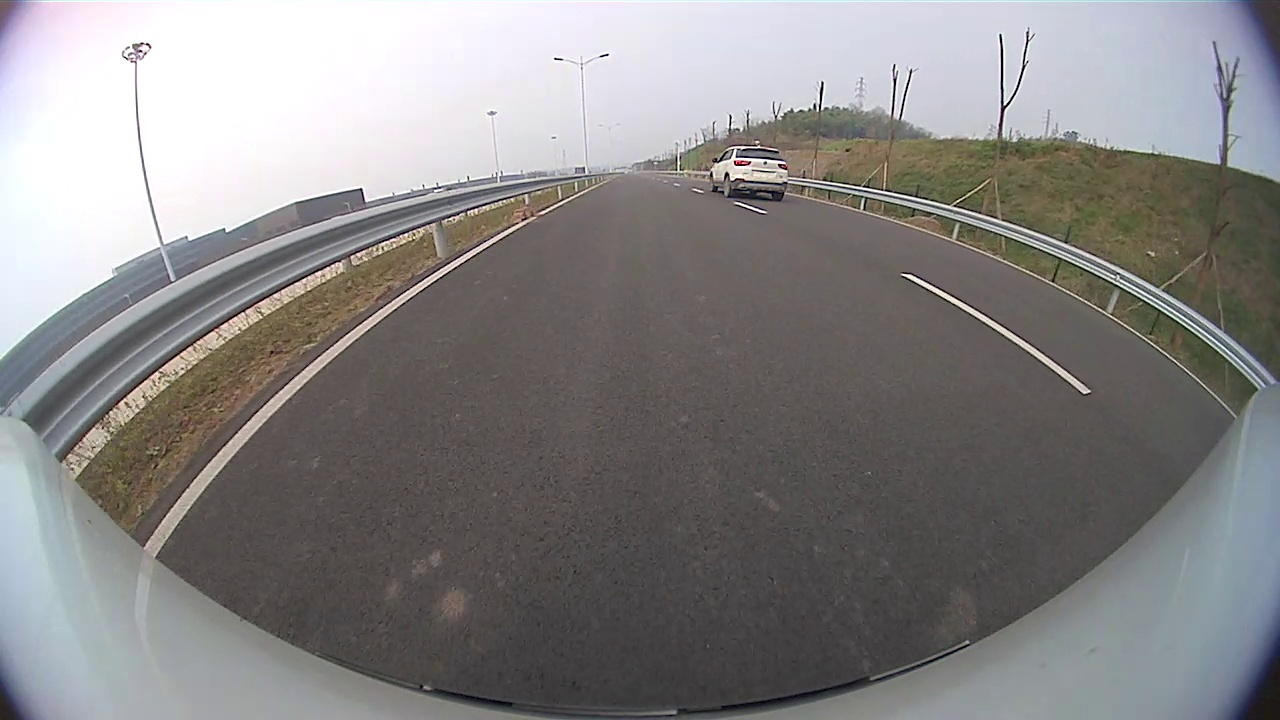car: (708, 145, 789, 202)
front: (709, 176, 719, 194)
rear: (723, 175, 734, 198)
